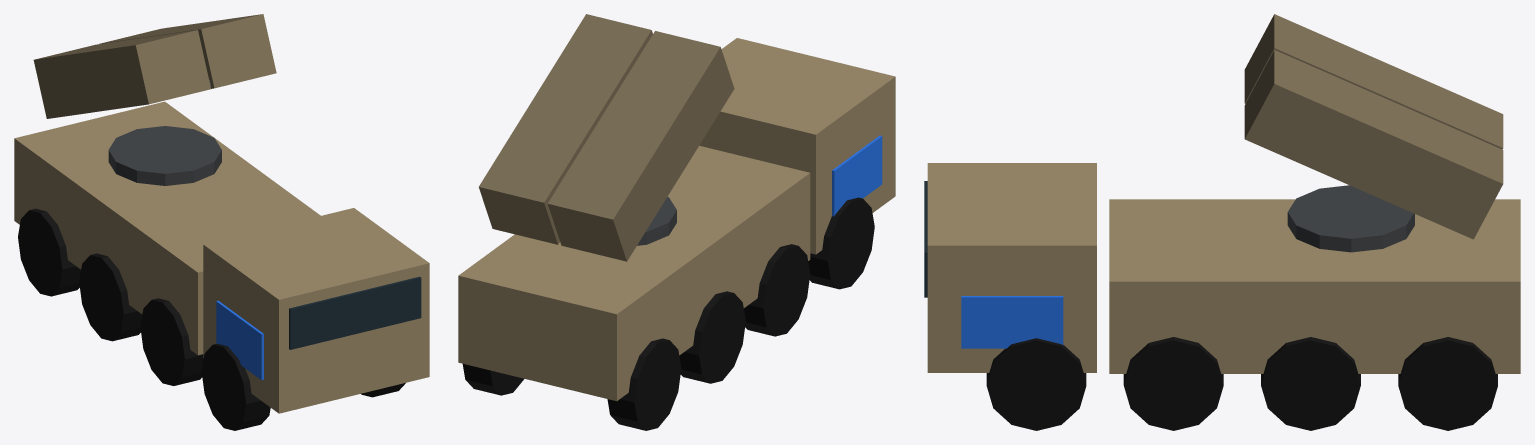
The model's file is ae_shorad.glb.
3 views of the same model, side by side, from view 1: azimuth 30°, elevation 25°; view 2: azimuth 150°, elevation 25°; view 3: azimuth 270°, elevation 25° (orthographic). The views are drawn at different scales.
Visible parts, largest first — view 1: body, cab, pod_0, windshield, turret, pod_1, wheel_l0, wheel_l1, wheel_l3, wheel_l2, team_door_l; view 2: body, pod_0, cab, pod_1, wheel_l3, wheel_l2, wheel_l1, wheel_l0, team_door_l, wheel_r3, turret; view 3: body, cab, pod_1, pod_0, wheel_r1, wheel_r3, wheel_r2, wheel_r0, turret, team_door_r.
Part boxes in pixels (x1,y1,x2,y2): body: (14,101,320,355); cab: (203,208,429,413); pod_0: (33,30,210,118); windshield: (289,276,421,349); turret: (108,126,221,185); pod_1: (99,14,276,88); wheel_l0: (201,343,270,430); wheel_l1: (140,298,203,385); wheel_l3: (18,208,80,296); wheel_l2: (79,253,142,341); team_door_l: (216,300,263,380); body: (458,145,810,401); pod_0: (547,31,734,261); cab: (699,38,895,254); pod_1: (479,14,652,244); wheel_l3: (607,338,681,430); wheel_l2: (679,291,745,383); wheel_l1: (744,244,810,336); wheel_l0: (808,197,874,289); team_door_l: (832,135,882,216); wheel_r3: (462,364,524,395); turret: (637,197,676,245); body: (1109,199,1520,373); cab: (927,163,1096,372); pod_1: (1244,50,1503,239); pod_0: (1244,14,1503,149); wheel_r1: (1123,337,1223,430); wheel_r3: (1398,337,1497,430); wheel_r2: (1261,337,1360,430); wheel_r0: (986,338,1086,430); turret: (1287,185,1414,252); team_door_r: (961,296,1063,348).
Size of the model in its own units: 2.8 by 4.92 by 7.89.
